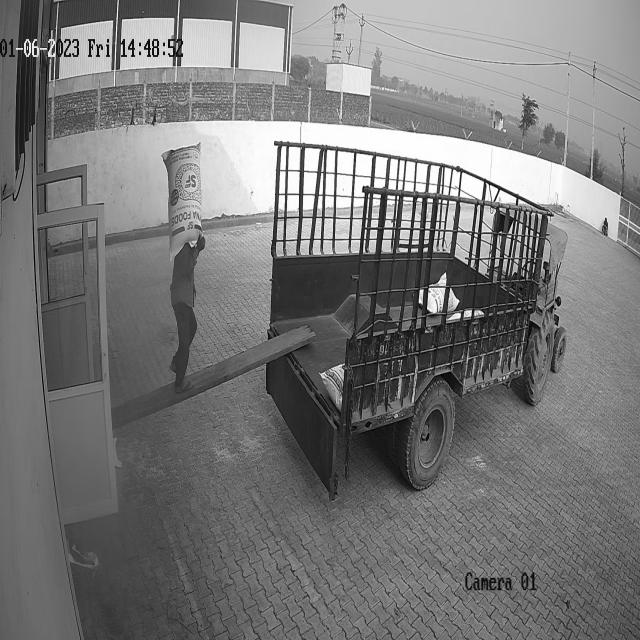sack: (162, 142, 202, 261)
